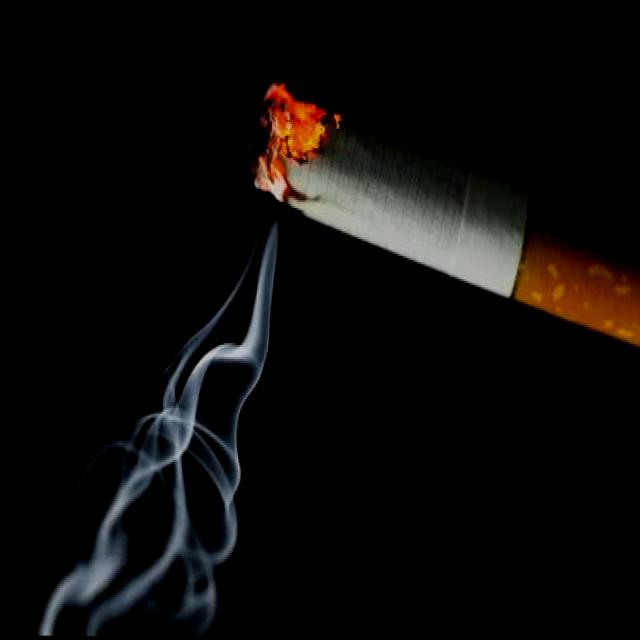cigarette: (239, 72, 640, 359)
